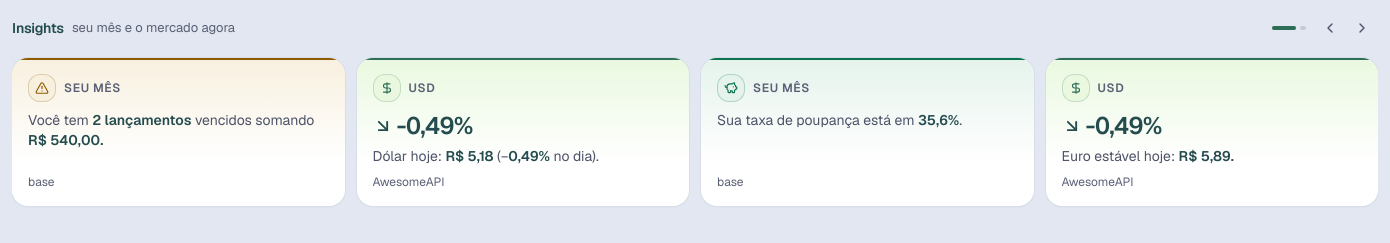
Test: InsightTicker › navega entre grupos com anterior/próximo, dando a volta
Click the button named "Insights anteriores": click(1330, 28) [1314,12,1346,44]
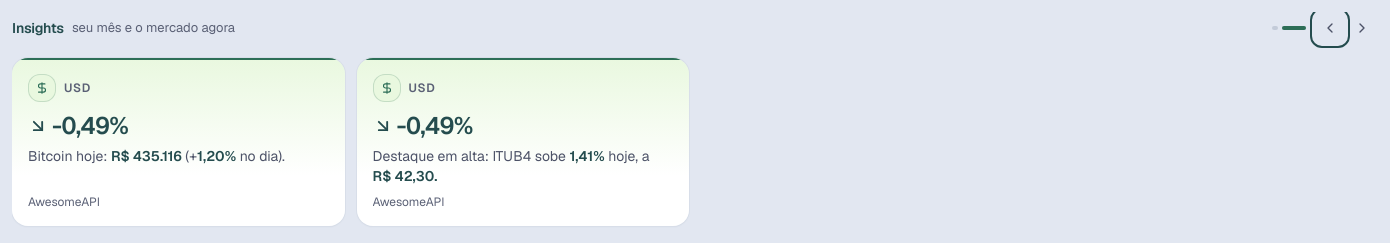
Now the text "Destaque em alta: ITUB4 sobe 1,41% hoje, a R$ 42,30." is shown, box [372,146,673,186]
Click the button named "Próximos insights": click(1362, 28) [1346,12,1378,44]
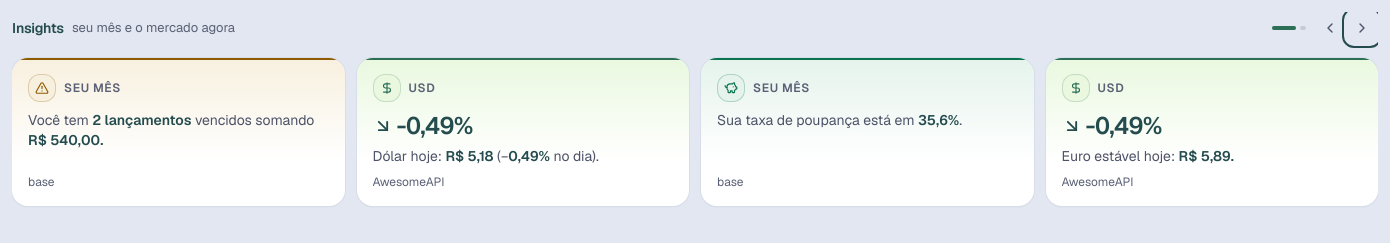
Now the text "Você tem 2 lançamentos vencidos somando R$ 540,00." is shown, box [28,110,328,150]
